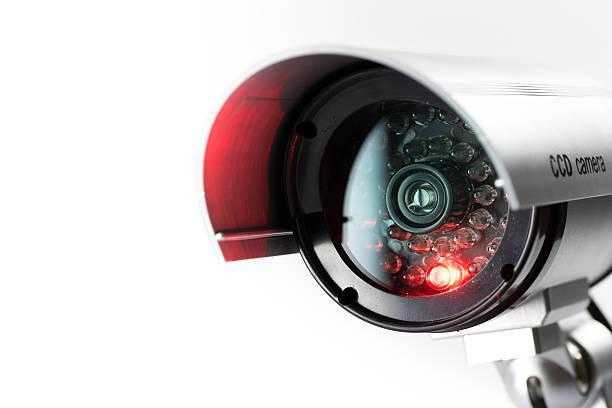camera: (162, 5, 612, 408)
